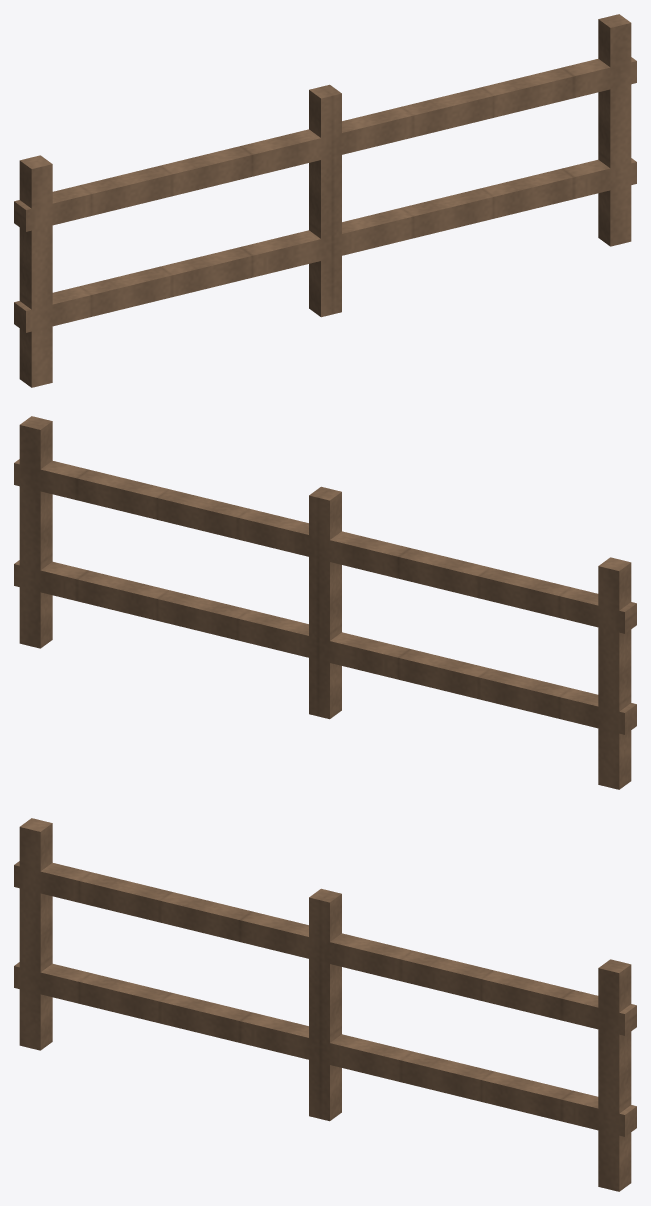
File: farm-fence.glb
The picture shows the model from 3 angles, top to bottom: view 1: azimuth 30°, elevation 25°; view 2: azimuth 150°, elevation 25°; view 3: azimuth 330°, elevation 25°; orthographic projection.
Bounding box in the file's own units: 3.8 × 1.3 × 0.13.
Materials: 1 (1 with a texture image).
